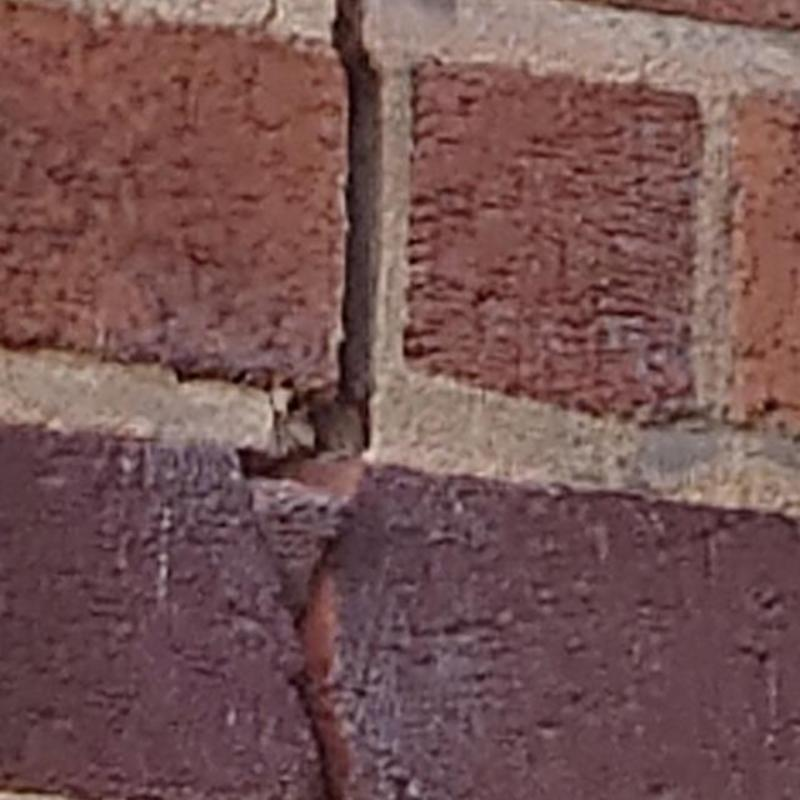crack: (242, 0, 378, 499), (300, 569, 350, 799), (256, 0, 276, 31)
